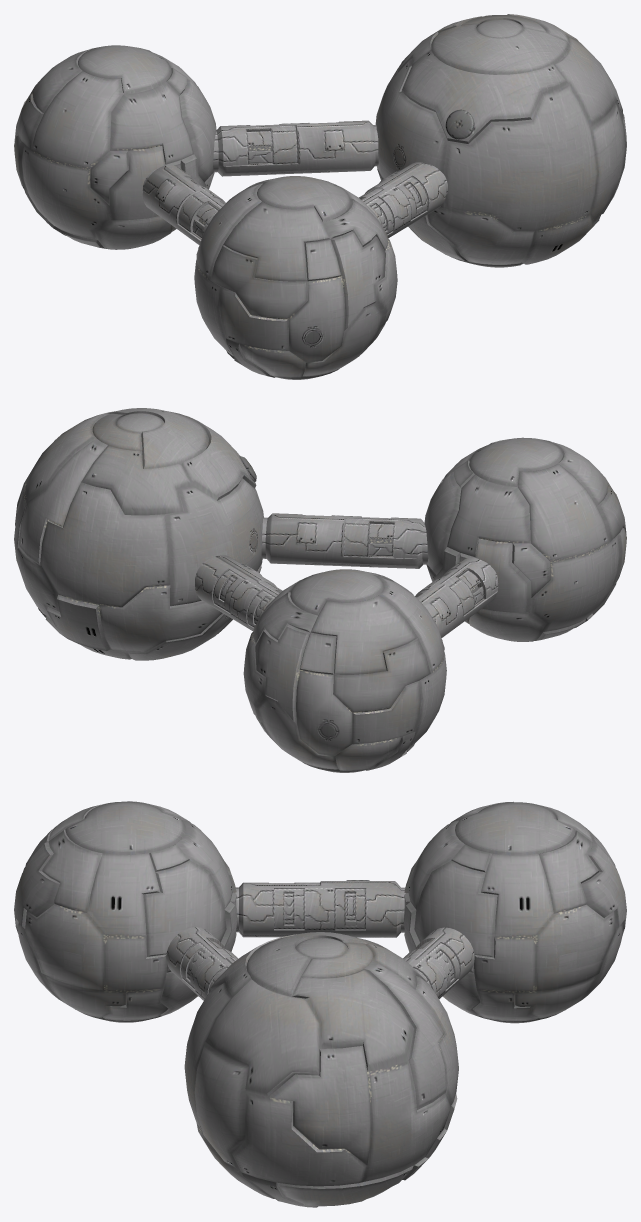
Rendered from empire_garmisch_2.obj.
3 renders of one model, top to bottom at view 1: azimuth 30°, elevation 25°; view 2: azimuth 150°, elevation 25°; view 3: azimuth 270°, elevation 25°, orthographic. The views are drawn at different scales.
Parts seen in each view (by area): view 1: empire_garmisch_2; view 2: empire_garmisch_2; view 3: empire_garmisch_2.
Boxes of the visible parts, x1=… form: empire_garmisch_2: x1=14, y1=14, x2=626, y2=379; empire_garmisch_2: x1=14, y1=408, x2=626, y2=772; empire_garmisch_2: x1=14, y1=801, x2=626, y2=1207.
Bounding box in the file's own units: 4065 × 1805 × 4028.
